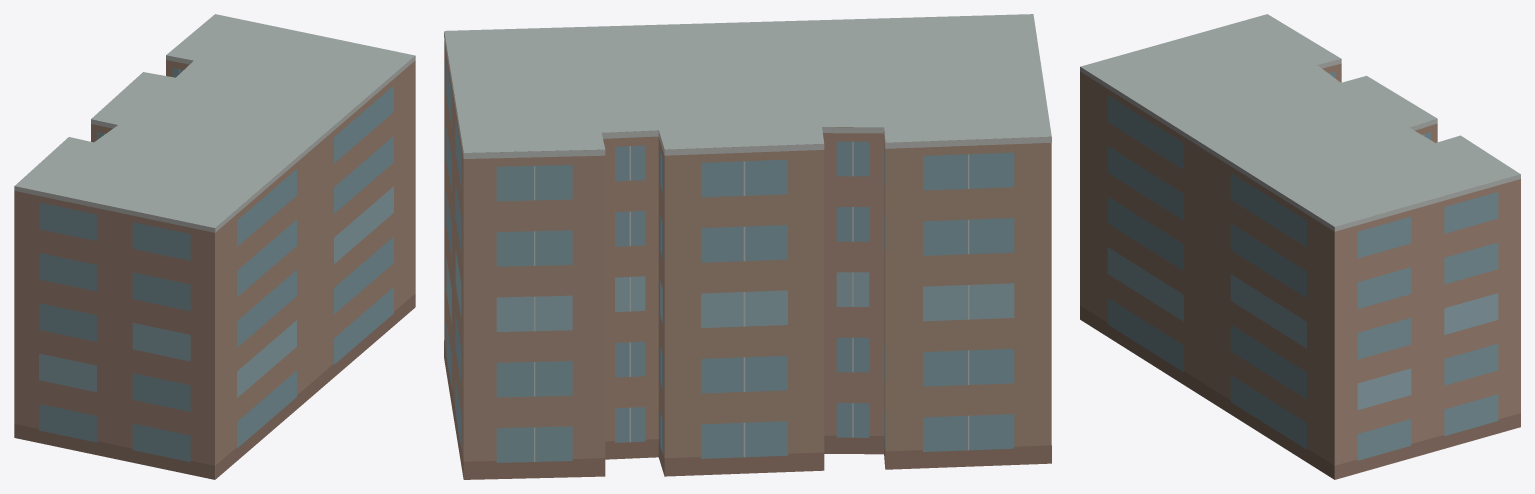
File: survey-upis-33045254.glb
3 renders of one model, left to right at view 1: azimuth 30°, elevation 25°; view 2: azimuth 150°, elevation 25°; view 3: azimuth 270°, elevation 25°, orthographic. The views are drawn at different scales.
Parts seen in each view (by area): view 1: survey-upis-33045254.tmp; view 2: survey-upis-33045254.tmp; view 3: survey-upis-33045254.tmp.
Boxes of the visible parts, x1,y1,x2,y2 form: survey-upis-33045254.tmp: [14, 14, 415, 479]; survey-upis-33045254.tmp: [444, 14, 1051, 479]; survey-upis-33045254.tmp: [1080, 14, 1520, 479].
Size of the model in its own units: 23.6 by 13.06 by 20.64.
